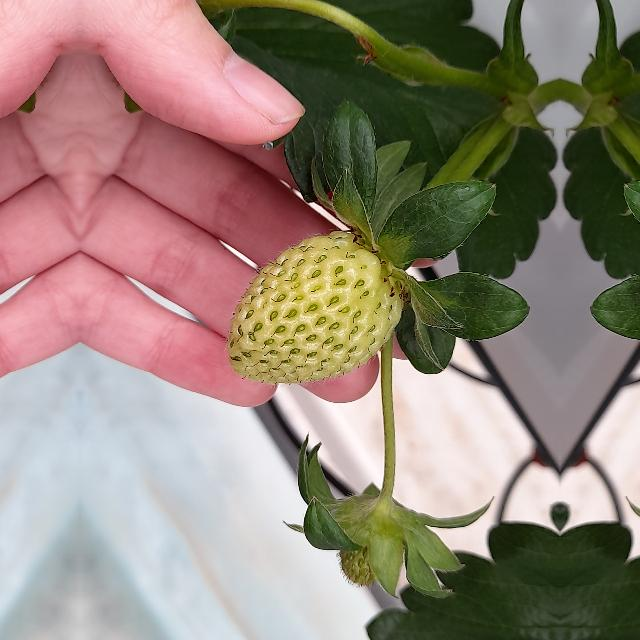Health_25: (225, 230, 403, 384)
